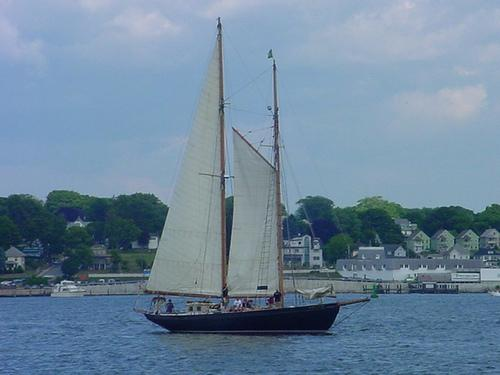Ship: (134, 18, 368, 334)
